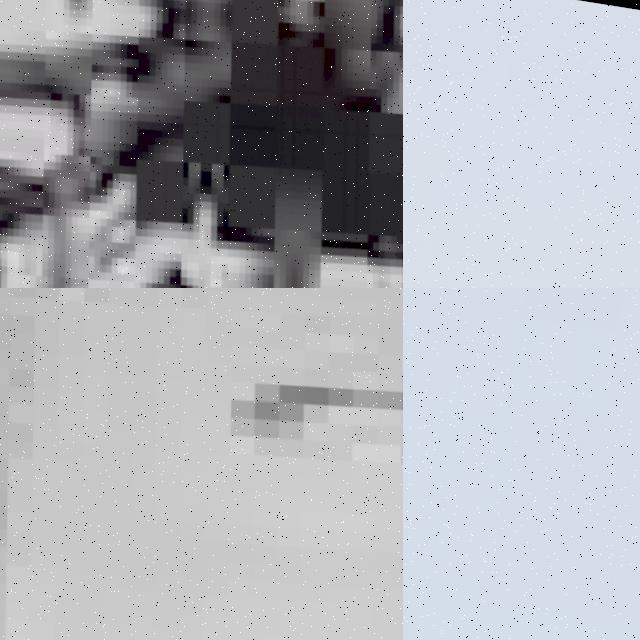0: (0, 0, 403, 288)
drone: (0, 288, 403, 640)
